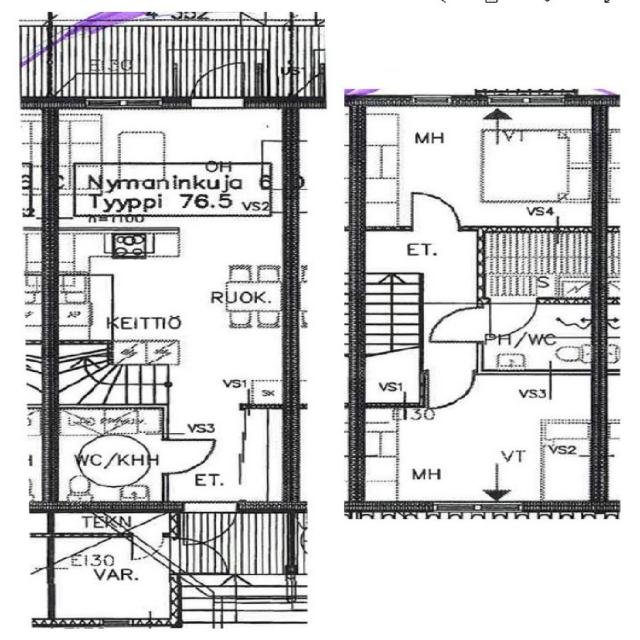door: (190, 57, 244, 109), (184, 501, 237, 552), (171, 539, 227, 573), (413, 191, 459, 231), (429, 369, 474, 408), (432, 308, 484, 341), (490, 298, 534, 336), (162, 440, 212, 473), (132, 533, 162, 560)
